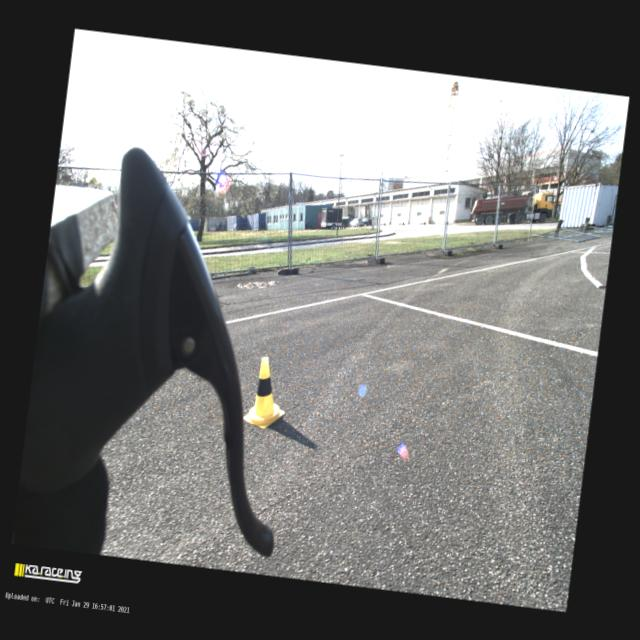yellow_cone: (242, 354, 291, 430)
